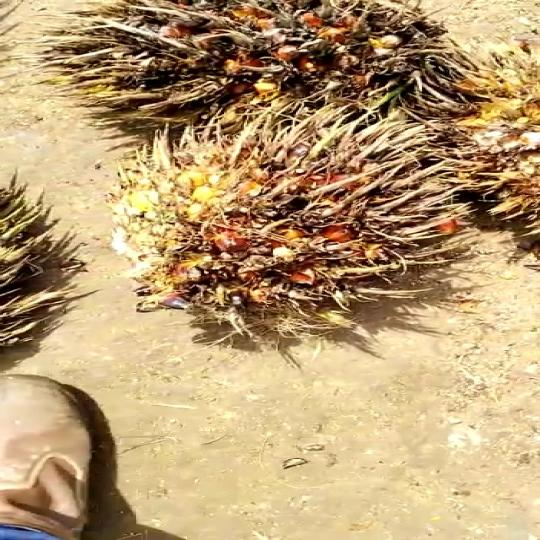terlalu masak: (109, 106, 482, 344)
